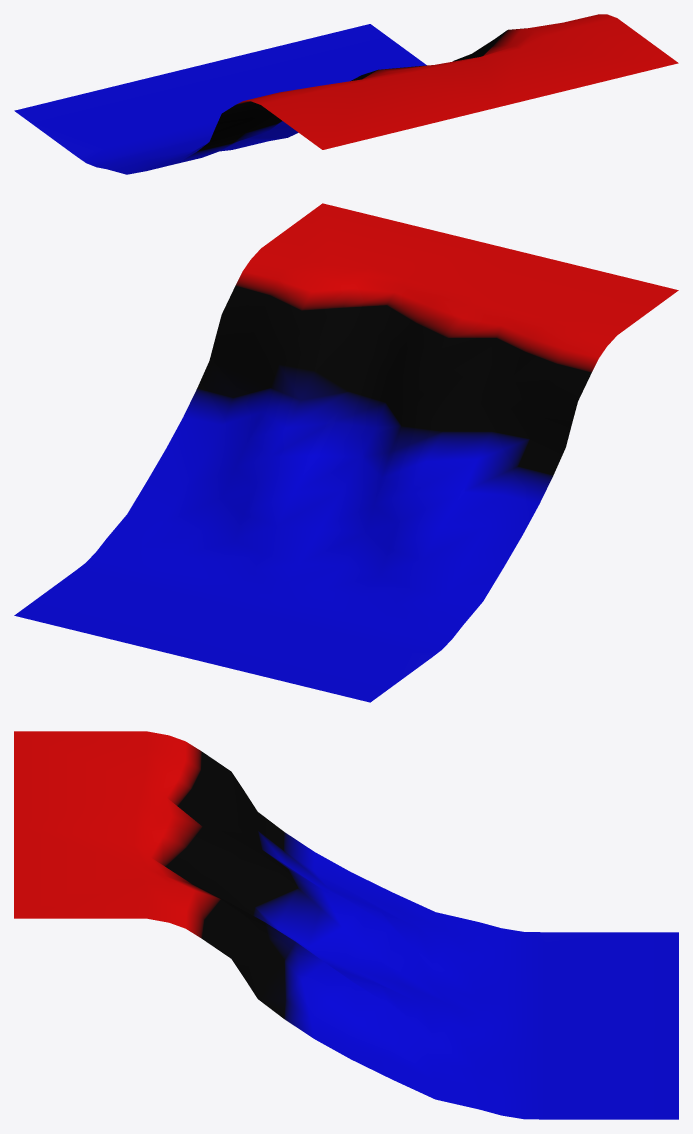
The model's file is RiverBank01A Background.fbx.
The picture shows the model from 3 angles, top to bottom: view 1: azimuth 30°, elevation 25°; view 2: azimuth 150°, elevation 25°; view 3: azimuth 270°, elevation 25°; orthographic projection. The views are drawn at different scales.
Parts seen in each view (by area): view 1: RiverBank01A Background; view 2: RiverBank01A Background; view 3: RiverBank01A Background.
Part boxes in pixels (x1,y1,x2,y2): RiverBank01A Background: [14, 14, 678, 174]; RiverBank01A Background: [14, 203, 678, 702]; RiverBank01A Background: [14, 731, 678, 1119].
Bounding box in the file's own units: 2 × 1 × 3.
